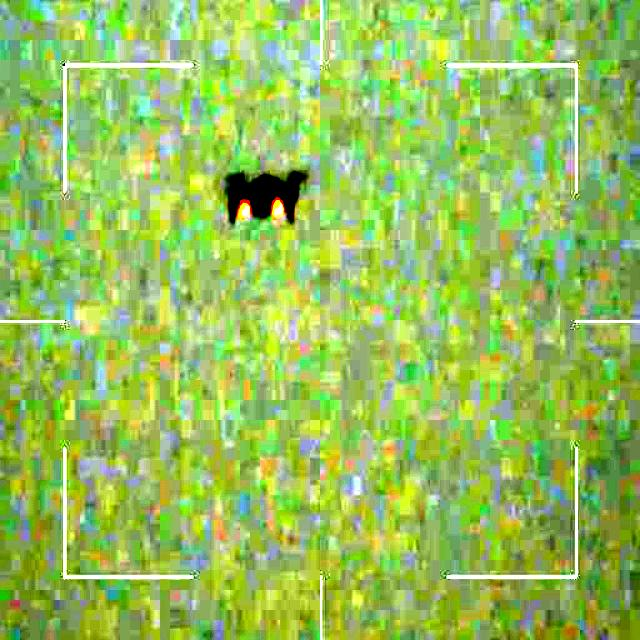bird: (221, 168, 310, 226)
